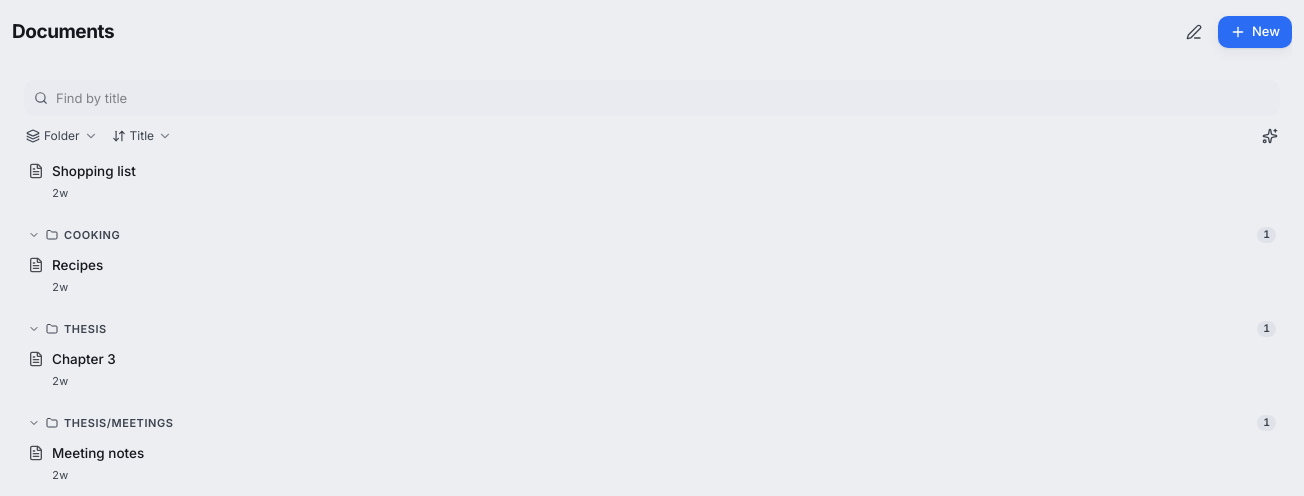
Test: groups › a heading folds its group, and the choice is remembered
Click the button "cooking 1" at x=92, y=235, box [20,219,1284,248]
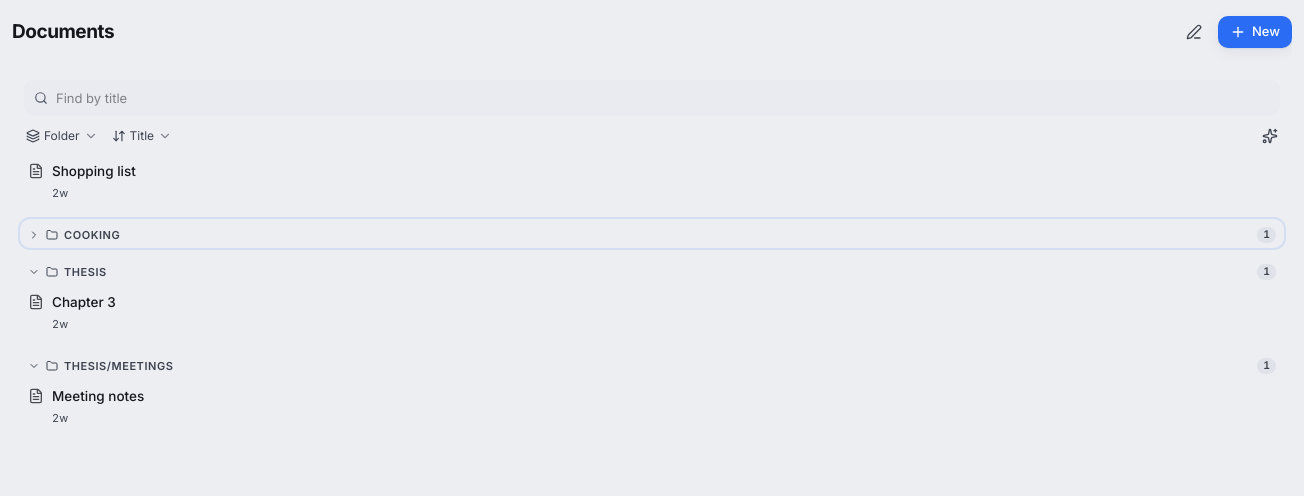
Check: the link "Recipes" is gone
